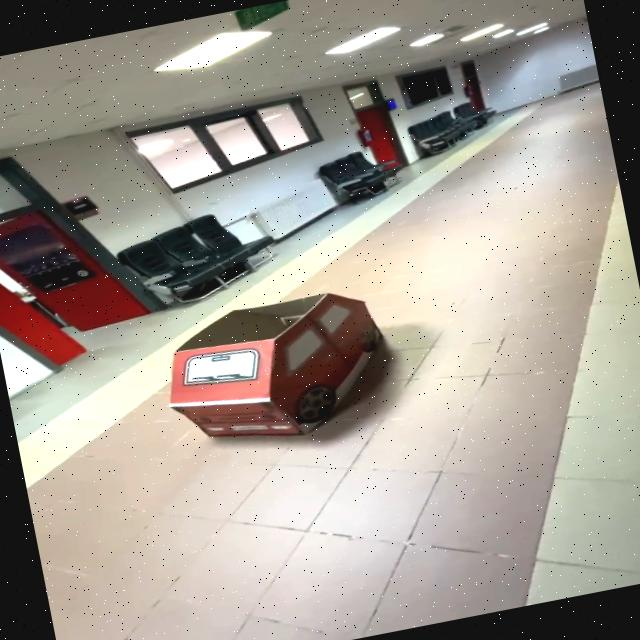red_car: (137, 257, 432, 472)
